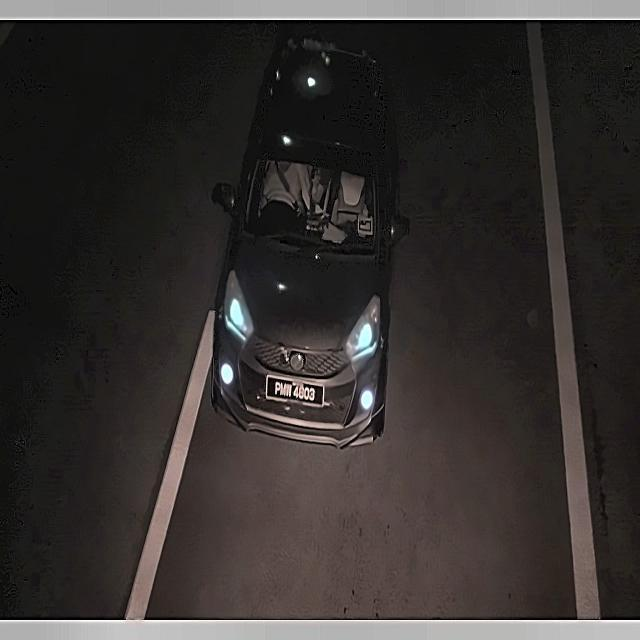car: (262, 374, 327, 409)
